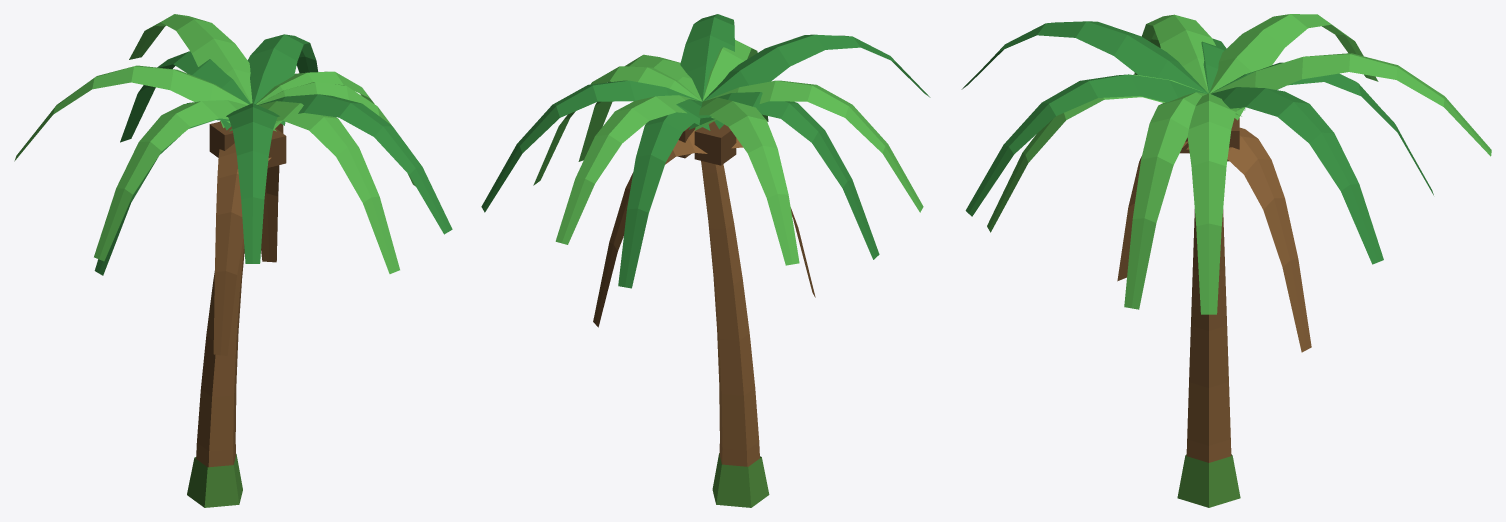
The model's file is palm.glb.
The picture shows the model from 3 angles, left to right: view 1: azimuth 30°, elevation 25°; view 2: azimuth 150°, elevation 25°; view 3: azimuth 270°, elevation 25°; orthographic projection. The views are drawn at different scales.
Parts seen in each view (by area): view 1: PalmTree; view 2: PalmTree; view 3: PalmTree.
Part boxes in pixels (x1,y1,x2,y2): PalmTree: [14, 14, 452, 507]; PalmTree: [481, 14, 930, 507]; PalmTree: [961, 14, 1491, 507].
Size of the model in its own units: 5.36 by 6.13 by 6.39.
1 material, 1 textured.
